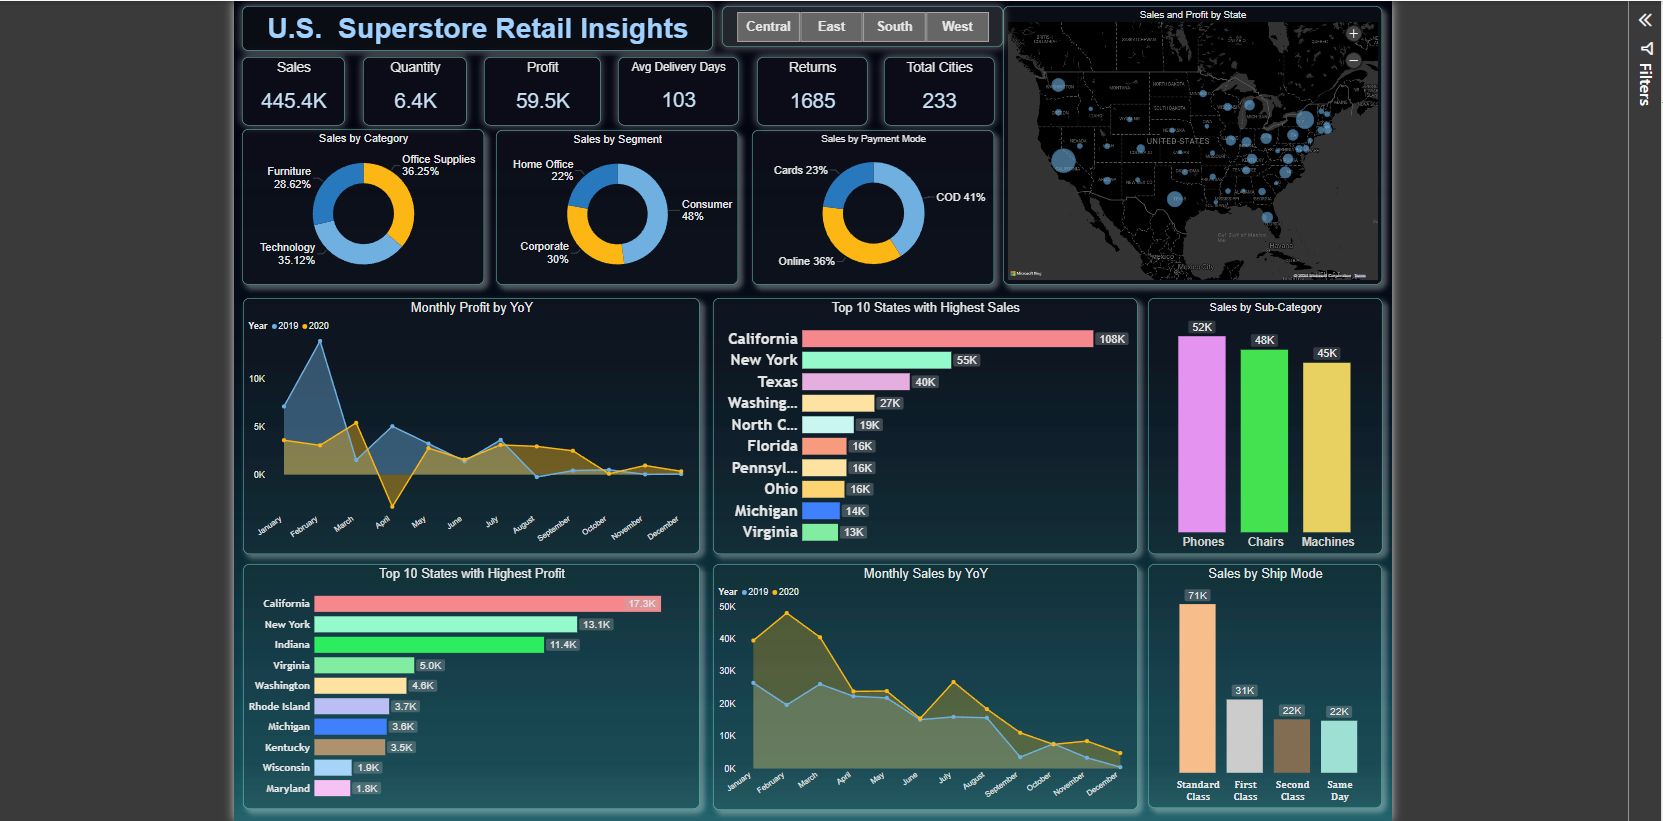

The dashboard page shown, as its layout file describes it:
{"tool":"powerbi","page":{"name":"Dashboard","canvas":[2400,1700],"ordinal":0},"visuals":[{"type":"donutChart","title":"Sales by Category","fields":{"Category":["SuperStore_Sales_Dataset.Category"],"Y":["Sum(SuperStore_Sales_Dataset.Sales)"]},"box":[15.8,265.4,501.9,323.2],"z":0},{"type":"clusteredColumnChart","title":"Sales by Sub-Category","fields":{"Category":["SuperStore_Sales_Dataset.Sub-Category"],"Y":["Sum(SuperStore_Sales_Dataset.Sales)"]},"box":[1894.4,614.8,486.1,530.8],"z":1000},{"type":"clusteredColumnChart","title":"Sales by Ship Mode","fields":{"Category":["SuperStore_Sales_Dataset.Ship Mode"],"Y":["Sum(SuperStore_Sales_Dataset.Sales)"]},"box":[1894.9,1167.2,485.1,505.9],"z":2000},{"type":"areaChart","title":"Monthly Sales by YoY ","fields":{"Y":["Sum(SuperStore_Sales_Dataset.Sales)"],"Category":["SuperStore_Sales_Dataset.Order Date.Variation.Date Hierarchy.Month","SuperStore_Sales_Dataset.Order Date.Variation.Date Hierarchy.Day"],"Series":["SuperStore_Sales_Dataset.Order Date.Variation.Date Hierarchy.Year"]},"box":[993,1167.2,881.1,510],"z":3000},{"type":"areaChart","title":"Monthly Profit by YoY ","fields":{"Category":["SuperStore_Sales_Dataset.Order Date.Variation.Date Hierarchy.Month","SuperStore_Sales_Dataset.Order Date.Variation.Date Hierarchy.Day"],"Series":["SuperStore_Sales_Dataset.Order Date.Variation.Date Hierarchy.Year"],"Y":["Sum(SuperStore_Sales_Dataset.Profit)"]},"box":[18.7,615.7,947.4,530.7],"z":4000},{"type":"map","title":"Sales and Profit by State","fields":{"Category":["SuperStore_Sales_Dataset.State"],"Size":["Sum(SuperStore_Sales_Dataset.Sales)"]},"box":[1594.9,10.5,785.6,578.1],"z":5000},{"type":"donutChart","title":"Sales by Segment","fields":{"Category":["SuperStore_Sales_Dataset.Segment"],"Y":["Sum(SuperStore_Sales_Dataset.Sales)"]},"box":[543.9,268,501.9,320.6],"z":6000},{"type":"donutChart","title":"Sales by Payment Mode","fields":{"Category":["SuperStore_Sales_Dataset.Payment Mode"],"Y":["Sum(SuperStore_Sales_Dataset.Sales)"]},"box":[1074.7,268,501.9,320.6],"z":7000},{"type":"slicer","fields":{"Values":["SuperStore_Sales_Dataset.Region"]},"box":[1011.7,10.4,582.6,85],"z":8000},{"type":"textbox","box":[16.6,10.4,976.5,93.3],"z":9000},{"type":"card","title":"Sales","fields":{"Values":["Sum(SuperStore_Sales_Dataset.Sales)"]},"box":[15.8,115.6,212.8,141.9],"z":10000},{"type":"card","title":"Quantity","fields":{"Values":["Sum(SuperStore_Sales_Dataset.Quantity)"]},"box":[268,115.6,215.5,141.9],"z":11000},{"type":"card","title":"Profit","fields":{"Values":["Sum(SuperStore_Sales_Dataset.Profit)"]},"box":[517.6,115.6,241.7,141.9],"z":12000},{"type":"card","title":"Avg Delivery Days","fields":{"Values":["Avg(SuperStore_Sales_Dataset.AvgDelivery)"]},"box":[796.1,115.6,249.6,141.9],"z":13000},{"type":"card","title":"Returns","fields":{"Values":["CountNonNull(SuperStore_Sales_Dataset.Returns)"]},"box":[1085.2,115.6,228.6,141.9],"z":14000},{"type":"card","title":"Total Cities","fields":{"Values":["Count(SuperStore_Sales_Dataset.City)"]},"box":[1347.9,115.6,228.6,141.9],"z":15000},{"type":"clusteredBarChart","title":"Top 10 States with Highest Sales","fields":{"Category":["SuperStore_Sales_Dataset.State"],"Y":["Sum(SuperStore_Sales_Dataset.Sales)"]},"box":[993.2,614.8,880.2,530.8],"z":16000},{"type":"clusteredBarChart","title":"Top 10 States with Highest Profit ","fields":{"Category":["SuperStore_Sales_Dataset.State"],"Y":["Sum(SuperStore_Sales_Dataset.Profit)"]},"box":[18.7,1167.2,947.4,507.9],"z":17000}]}

Visuals, with their boxes on the page's 2400x1700 design canvas (x1, y1, x2, y2). These are canvas units, not pixel positions in the 1663x821 screenshot, which may show the page scaled, cropped or inside an application window:
"Sales by Category" donutChart: detection(16, 265, 518, 589)
"Sales by Sub-Category" clusteredColumnChart: detection(1894, 615, 2380, 1146)
"Sales by Ship Mode" clusteredColumnChart: detection(1895, 1167, 2380, 1673)
"Monthly Sales by YoY " areaChart: detection(993, 1167, 1874, 1677)
"Monthly Profit by YoY " areaChart: detection(19, 616, 966, 1146)
"Sales and Profit by State" map: detection(1595, 10, 2380, 589)
"Sales by Segment" donutChart: detection(544, 268, 1046, 589)
"Sales by Payment Mode" donutChart: detection(1075, 268, 1577, 589)
slicer - SuperStore_Sales_Dataset.Region: detection(1012, 10, 1594, 95)
textbox: detection(17, 10, 993, 104)
"Sales" card: detection(16, 116, 229, 258)
"Quantity" card: detection(268, 116, 484, 258)
"Profit" card: detection(518, 116, 759, 258)
"Avg Delivery Days" card: detection(796, 116, 1046, 258)
"Returns" card: detection(1085, 116, 1314, 258)
"Total Cities" card: detection(1348, 116, 1576, 258)
"Top 10 States with Highest Sales" clusteredBarChart: detection(993, 615, 1873, 1146)
"Top 10 States with Highest Profit " clusteredBarChart: detection(19, 1167, 966, 1675)
